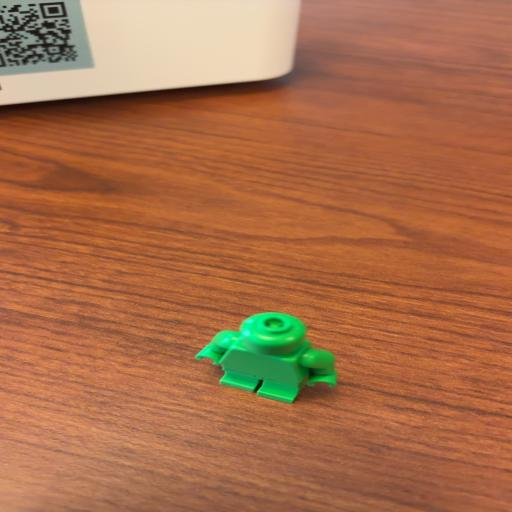UnoQ-minifig-detector: (195, 311, 338, 403)
